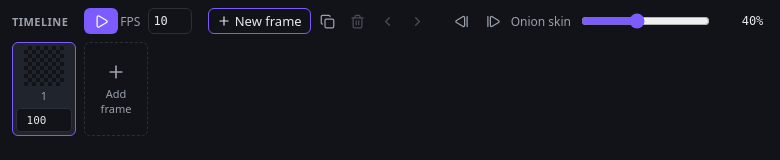
Scenario: TimelinePanel › puts back the old duration when the field is left empty
The image size is (780, 160).
Step 1. Clear the number field named "Duration of frame 1 (ms)" → (44, 120), box [16,108,72,132]
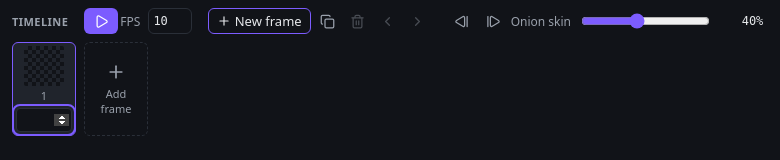
Step 2. Press Tab
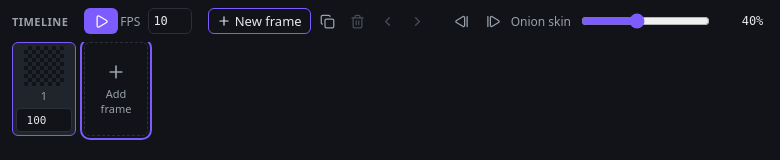
Expected: the number field named "Duration of frame 1 (ms)" holds "100", [16,108,72,132]
